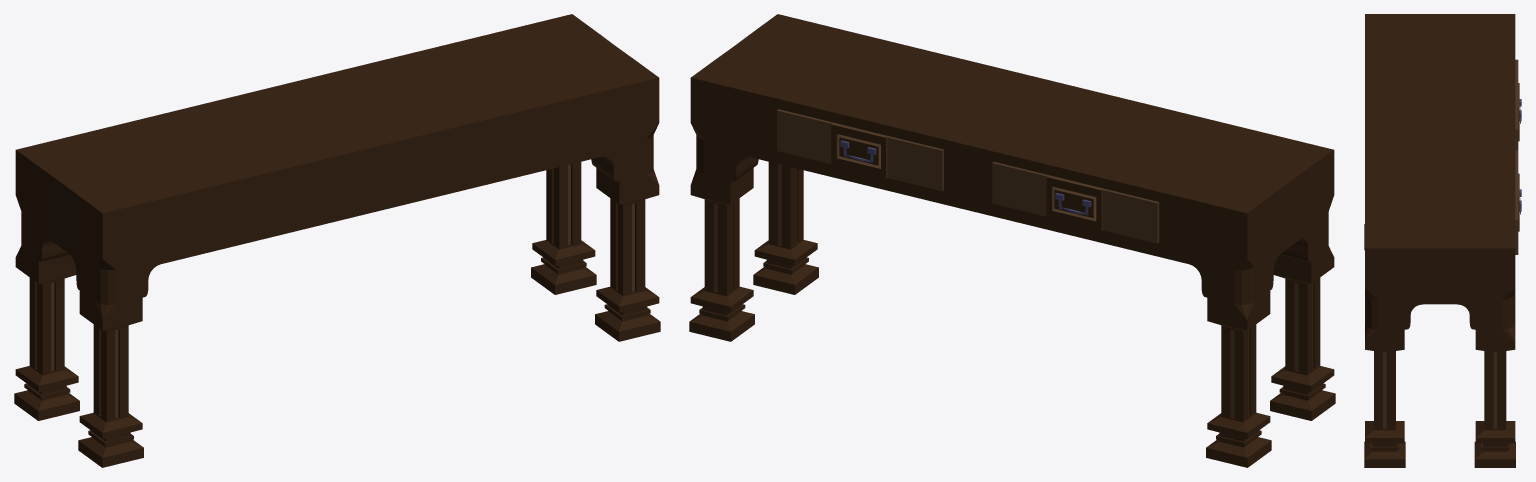
Rendered from 1escritorio.glb.
The picture shows the model from 3 angles, left to right: view 1: azimuth 30°, elevation 25°; view 2: azimuth 150°, elevation 25°; view 3: azimuth 270°, elevation 25°; orthographic projection. The views are drawn at different scales.
Visible parts, largest first — view 1: mesita; view 2: mesita, Plane.002; view 3: mesita, Plane.002.
Boxes of the visible parts, x1,y1,x2,y2 form: mesita: (14, 14, 660, 467); mesita: (689, 14, 1335, 467); Plane.002: (777, 109, 1159, 243); mesita: (1364, 14, 1515, 467); Plane.002: (1515, 59, 1519, 254).
Size of the model in its own units: 2.07 by 0.9 by 0.5866.
